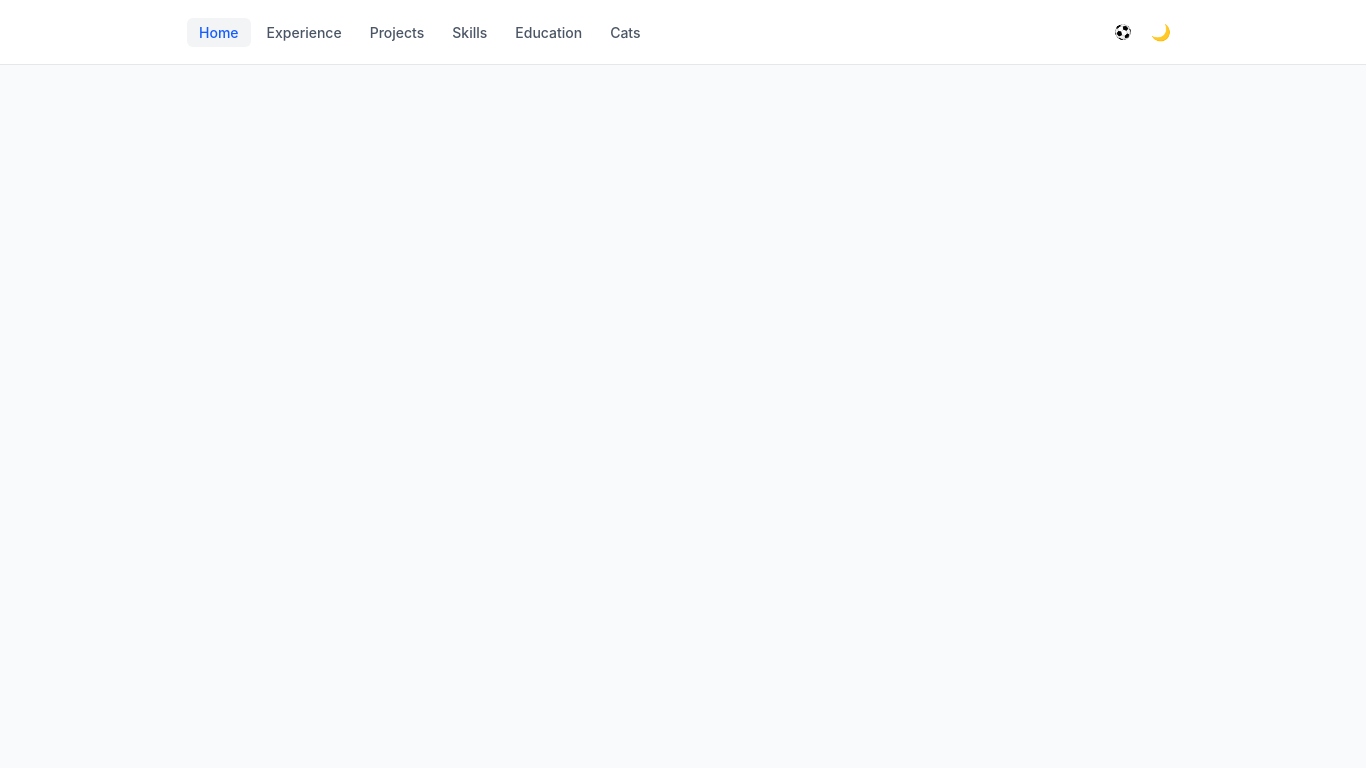
Test: Soccer game › opens soccer game on button click
Click the button named "Play soccer juggling game" at (1123, 32), box [1107,16,1139,48]
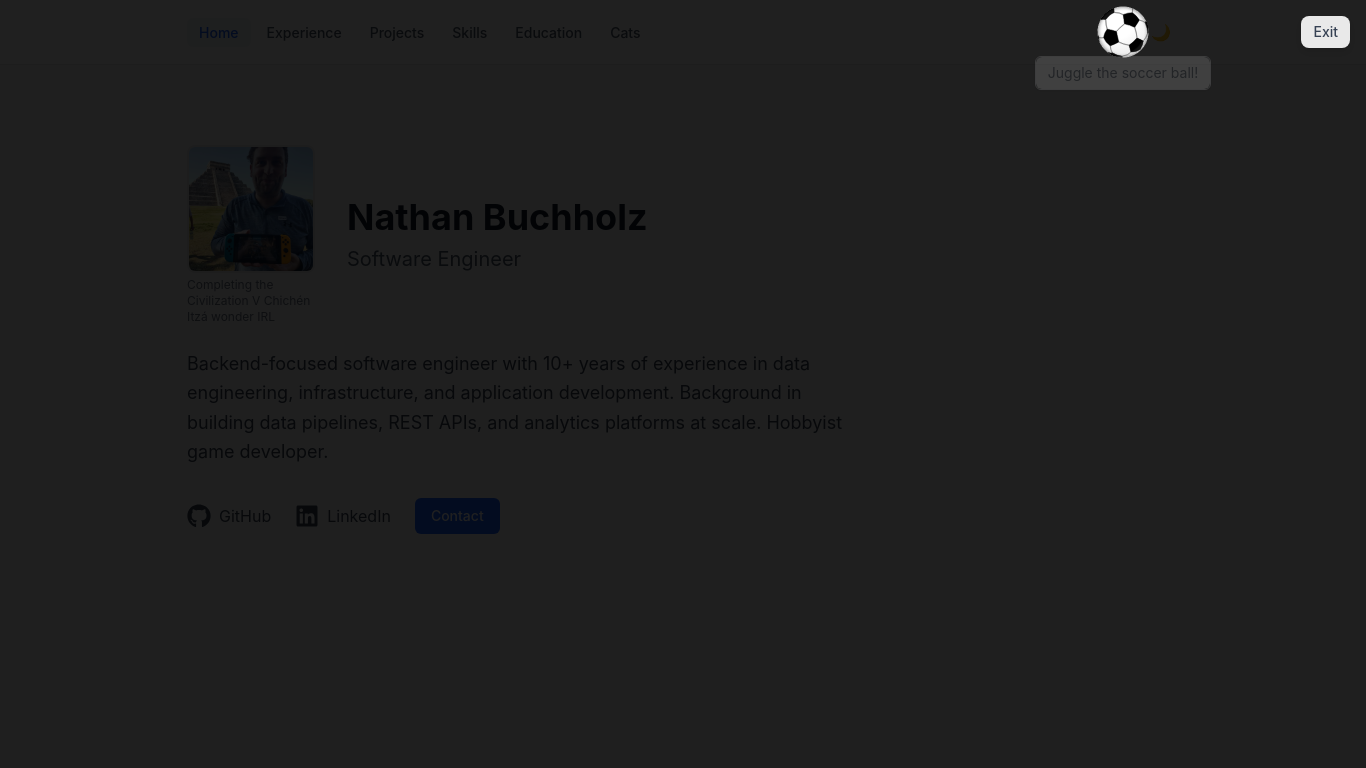
Check: the element with class "inset-0" showing "Exit" is shown
